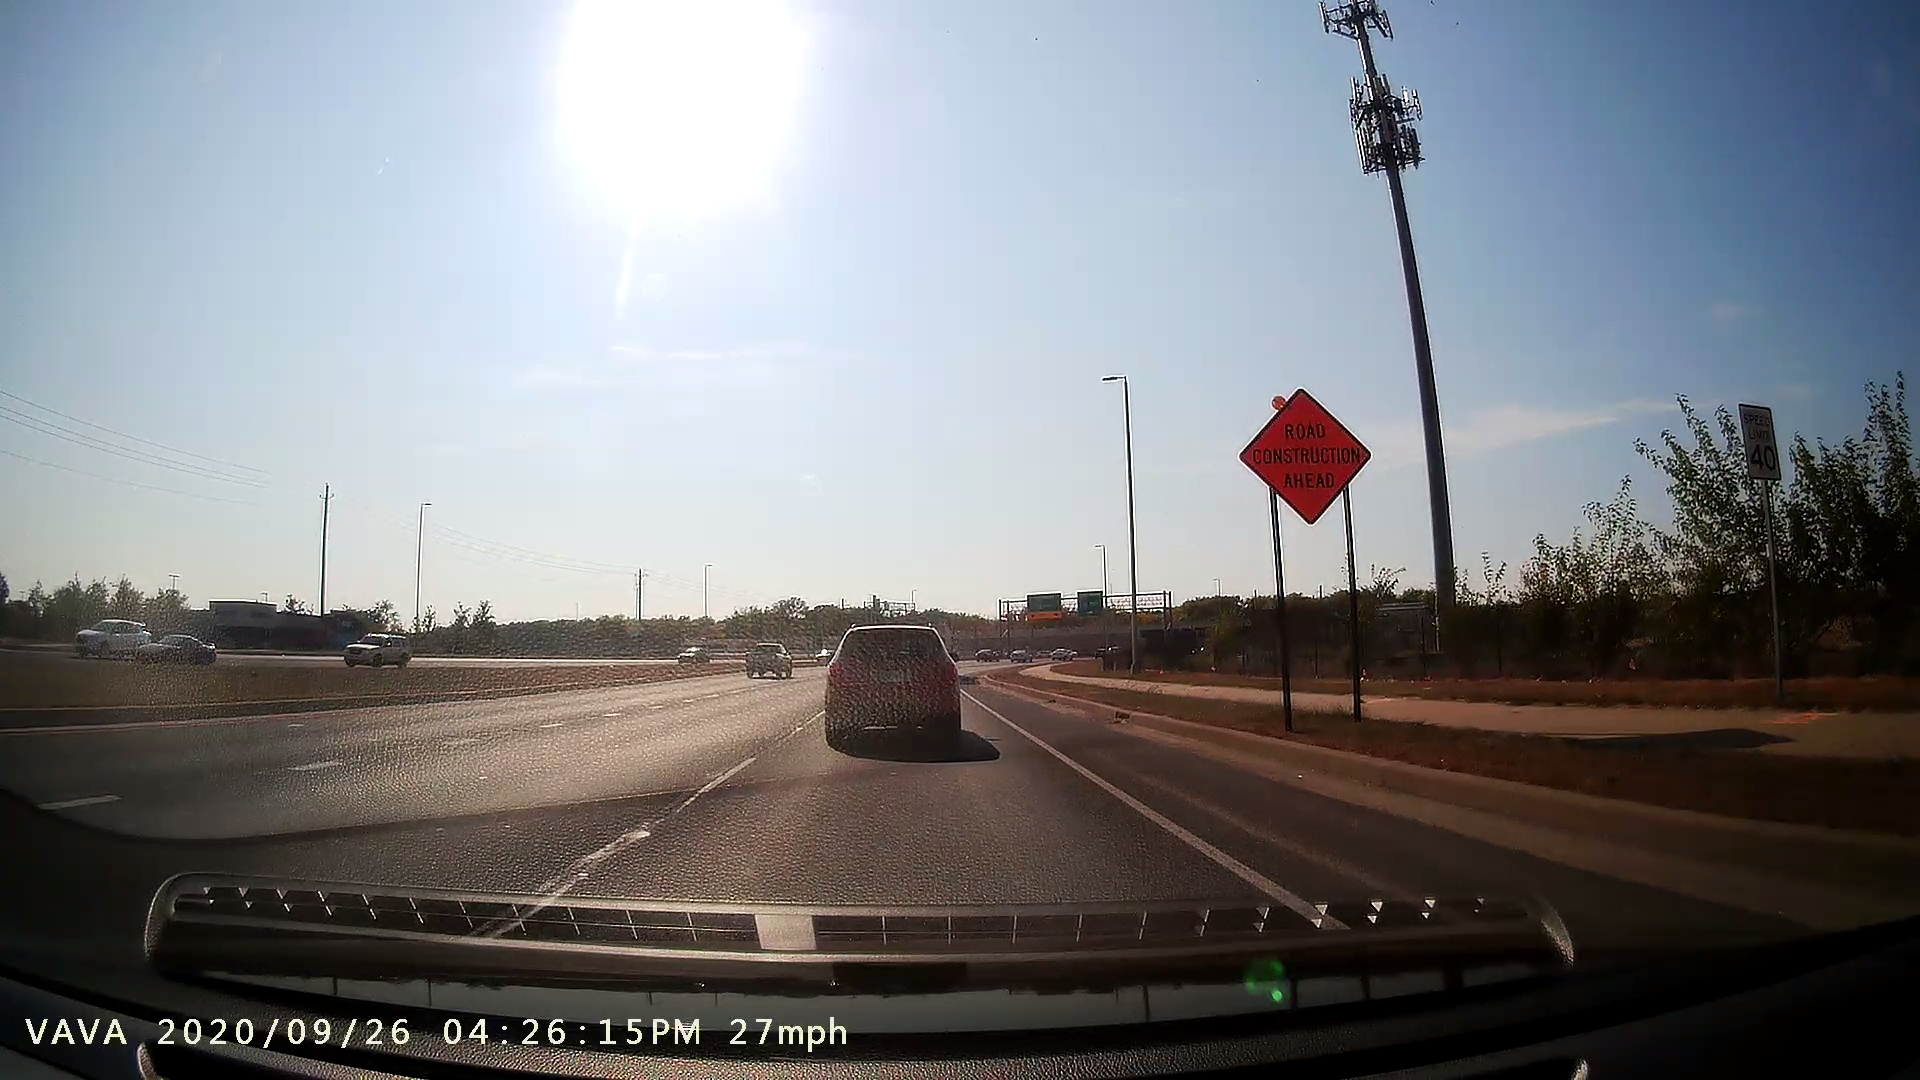ttcs_end_const: (1226, 373, 1398, 738)
